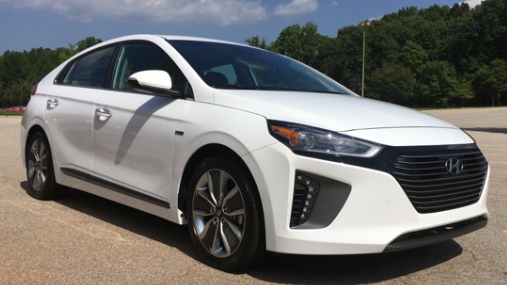car: (21, 36, 491, 275)
